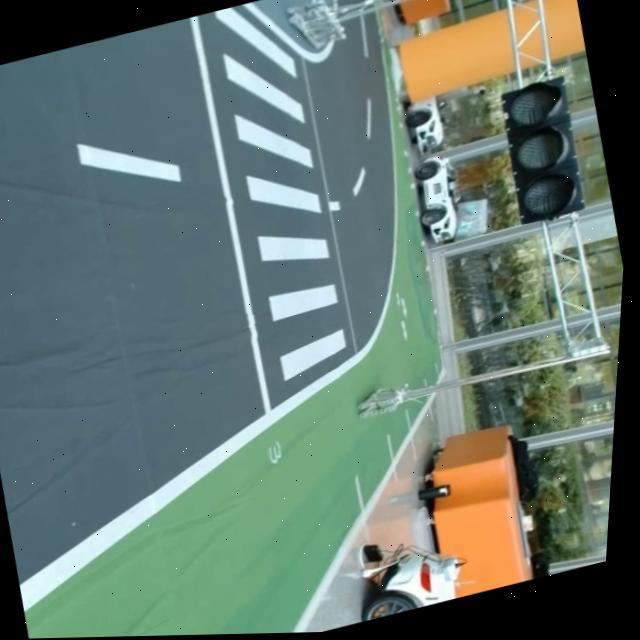traffic-light: (487, 71, 594, 235)
